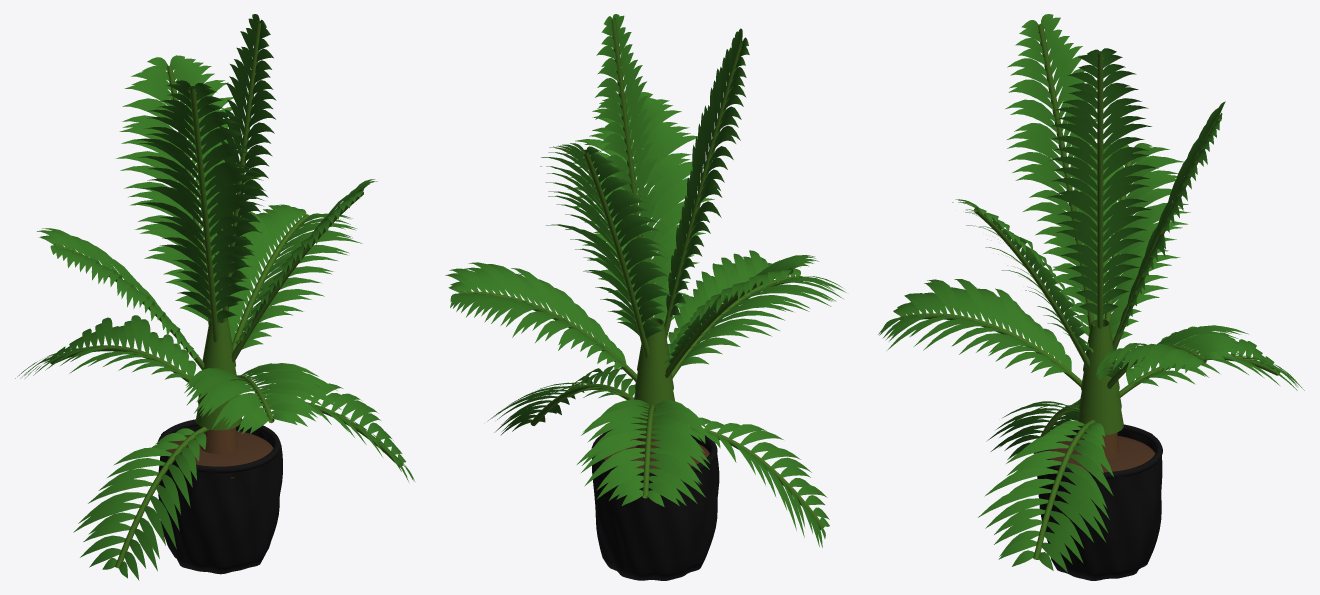
Rendered from bibit_sawit.obj.
3 renders of one model, left to right at view 1: azimuth 30°, elevation 25°; view 2: azimuth 150°, elevation 25°; view 3: azimuth 270°, elevation 25°, orthographic.
Visible parts, largest first — view 1: frond_02_leaflets, polybag, frond_03_leaflets, frond_10_leaflets, frond_06_leaflets, frond_07_leaflets, frond_01_leaflets, frond_08_leaflets, frond_05_leaflets, frond_09_leaflets, frond_02_rachis, frond_04_leaflets (+10 smaller); view 2: polybag, frond_08_leaflets, frond_03_leaflets, frond_04_leaflets, frond_06_leaflets, frond_02_leaflets, frond_07_leaflets, frond_01_leaflets, frond_10_leaflets, frond_09_leaflets, frond_05_leaflets, frond_02_rachis (+10 smaller); view 3: frond_01_leaflets, frond_02_leaflets, frond_09_leaflets, polybag, frond_07_leaflets, frond_05_leaflets, frond_06_leaflets, frond_03_leaflets, frond_04_leaflets, frond_08_leaflets, frond_01_rachis, frond_10_leaflets (+11 smaller).
Boxes of the visible parts, x1,y1,x2,y2 form: frond_02_leaflets: (133,80,265,321); polybag: (158,425,282,574); frond_03_leaflets: (116,55,260,321); frond_10_leaflets: (73,428,206,580); frond_06_leaflets: (228,204,361,349); frond_07_leaflets: (184,363,341,434); frond_01_leaflets: (214,14,276,307); frond_08_leaflets: (15,315,196,379); frond_05_leaflets: (37,228,198,359); frond_09_leaflets: (256,383,414,481); frond_02_rachis: (189,86,218,342); frond_04_leaflets: (235,179,377,344); polybag: (592,435,719,580); frond_08_leaflets: (577,399,716,506); frond_03_leaflets: (540,143,672,338); frond_04_leaflets: (566,92,714,325); frond_06_leaflets: (445,262,626,369); frond_02_leaflets: (666,28,749,317); frond_07_leaflets: (667,250,846,367); frond_01_leaflets: (595,14,658,307); frond_10_leaflets: (691,417,829,547); frond_09_leaflets: (487,365,635,435); frond_05_leaflets: (664,255,819,365); frond_02_rachis: (664,40,742,338); frond_01_leaflets: (1047,48,1158,314); frond_02_leaflets: (1005,14,1111,314); frond_09_leaflets: (978,420,1114,572); polybag: (1037,431,1162,580); frond_07_leaflets: (878,279,1071,376); frond_05_leaflets: (1053,143,1190,340); frond_06_leaflets: (1096,325,1248,379); frond_03_leaflets: (1118,101,1225,334); frond_04_leaflets: (952,199,1093,352); frond_08_leaflets: (1126,326,1304,390); frond_01_rachis: (1097,51,1103,329); frond_10_leaflets: (986,399,1080,459).
Size of the model in its own units: 0.7495 by 1.14 by 0.8338.
